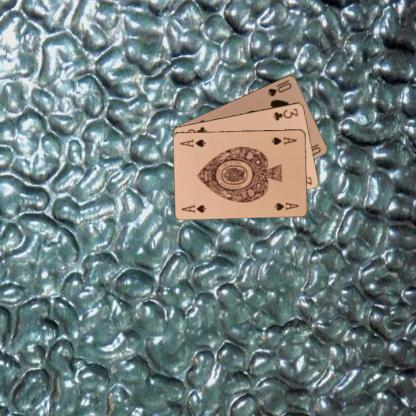10s: (265, 76, 293, 98)
3c: (270, 106, 300, 121)
As: (269, 134, 298, 146), (179, 202, 208, 214)
